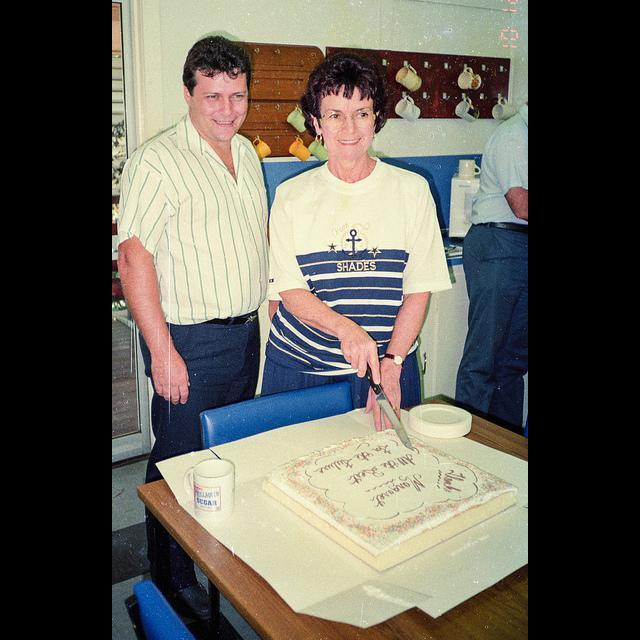cake: (254, 424, 514, 574)
chair: (204, 382, 360, 444), (123, 577, 195, 639)
cup: (182, 458, 234, 520), (395, 95, 421, 122), (456, 98, 480, 122), (288, 138, 312, 162), (458, 68, 482, 90), (286, 107, 306, 133), (308, 140, 328, 162), (252, 139, 272, 161), (491, 96, 509, 120), (459, 160, 481, 178)
dining table: (132, 392, 528, 640)
knife: (366, 364, 414, 451)
person: (260, 44, 456, 432), (116, 31, 268, 486), (452, 100, 528, 428)
